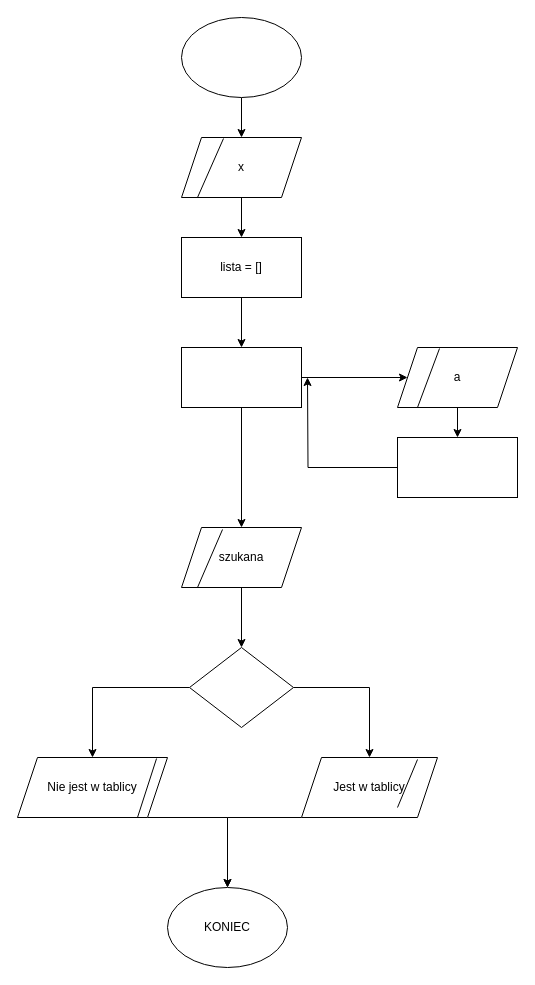
Some shapes in this 535 by 985 pixel diagram are drawn without their labels. The box of each missing label's shape, as (x1, y1, x2, y2) in pixels:
for z in range(x): (180, 346, 302, 408)
lista.append(a): (396, 436, 518, 498)
START: (180, 16, 302, 98)
szukana in lista: (188, 646, 294, 728)
